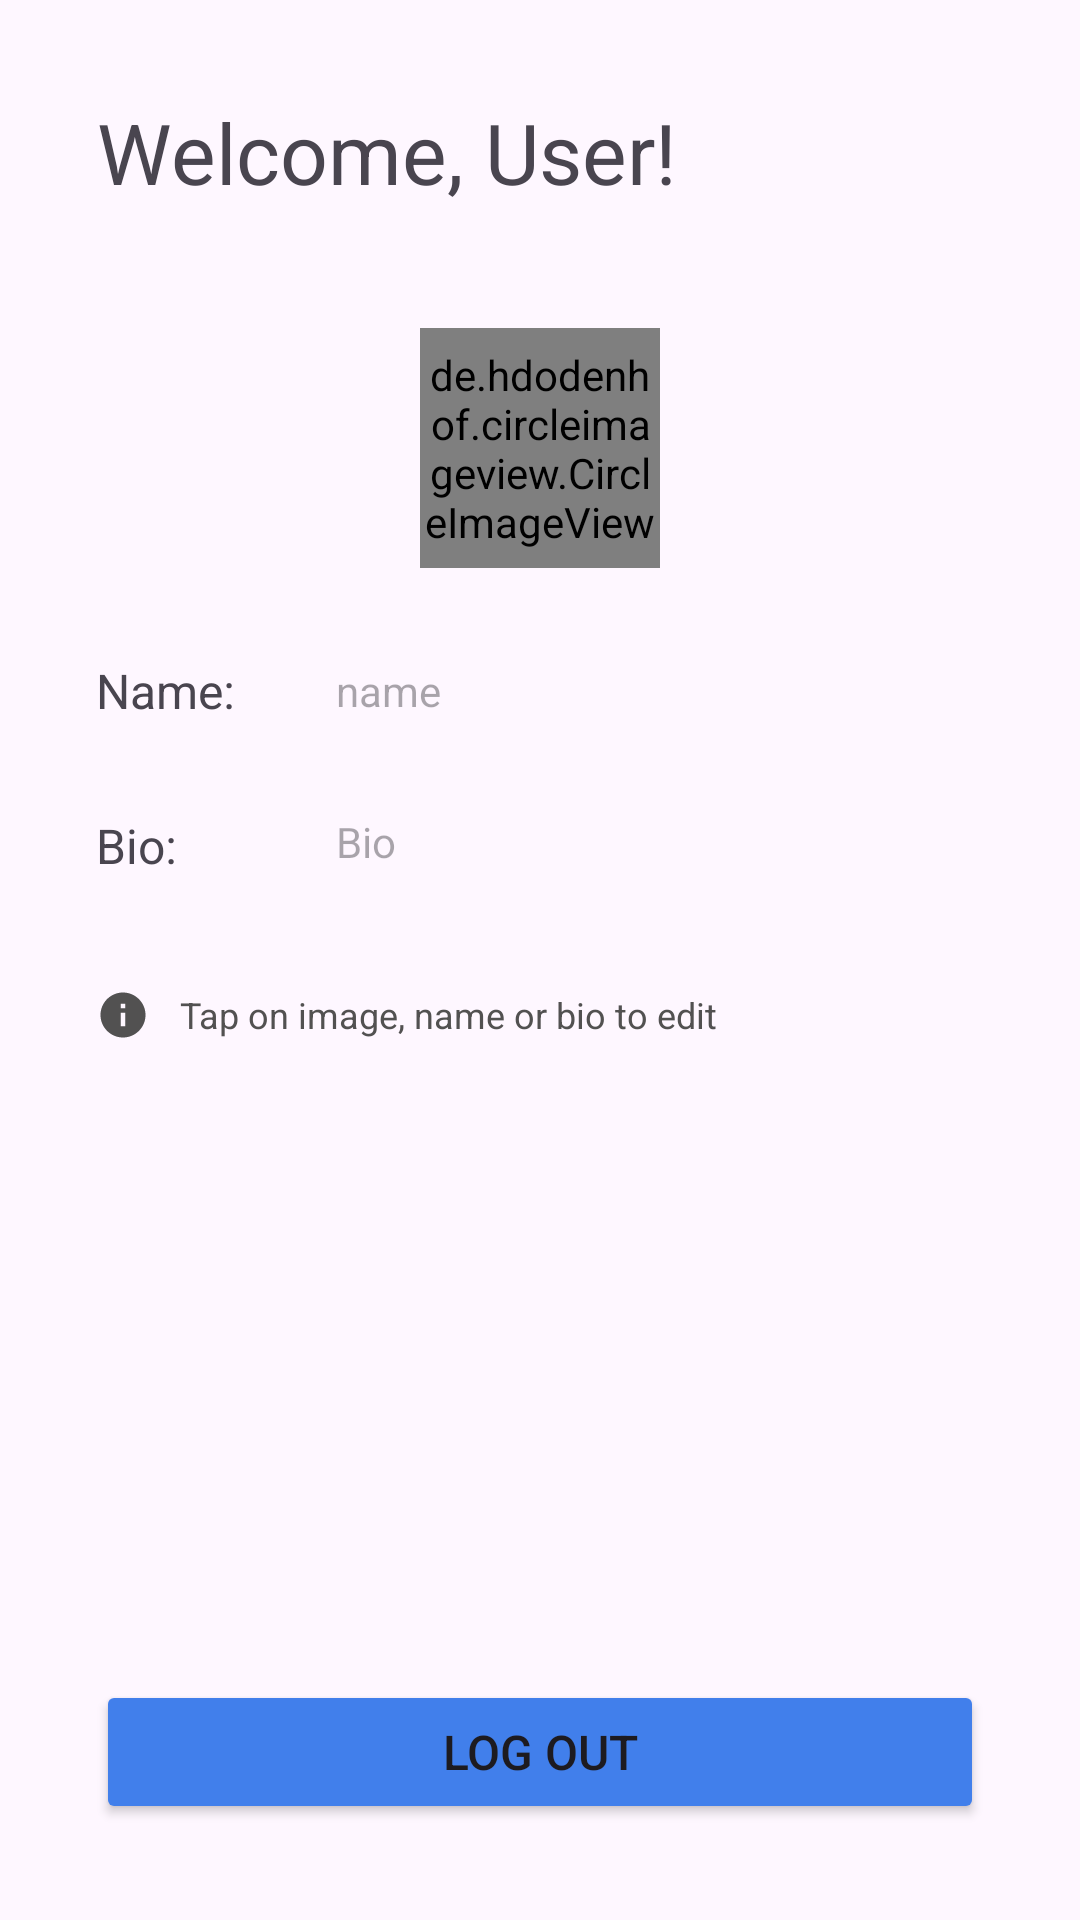

Named icons in this screenshot (1080*1920) and their centers, point (x, y):
Info: point (123, 1015)
